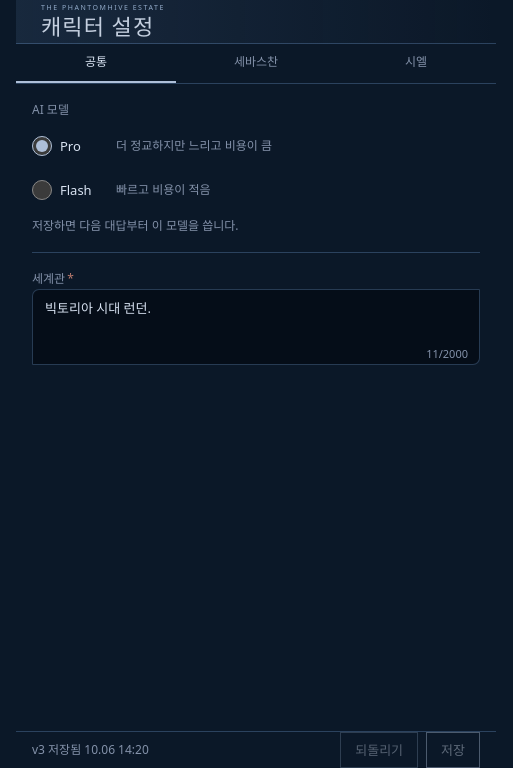
탭 · 필드 (R-SET-009 · R-SET-002) › TC-ST-020: 되돌리기 → 값 = 기준값, dirty 해제, 확인 시트 없음
Expected: the element named "설정 묶음" is shown, [16,44,496,84]
Replace the text in the text box named "세계관, 필수" with "고친 세계" at point(256, 327), box [32,289,480,365]
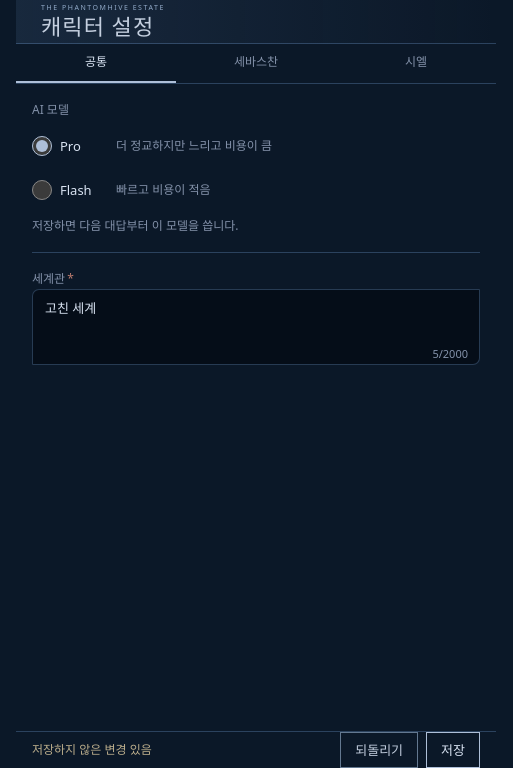
Click the button "되돌리기" at point(379, 750), box [340,732,418,767]
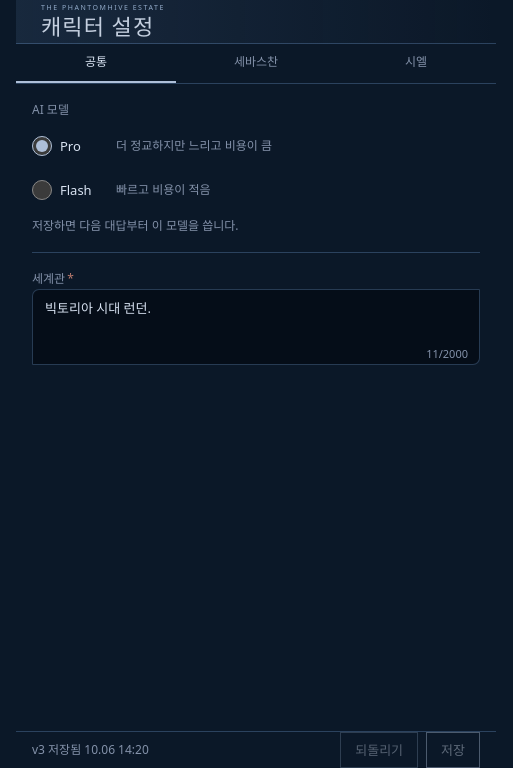
Expected: the text box named "세계관, 필수" holds "빅토리아 시대 런던.", [32,289,480,365]
Expected: the message reads "v3 저장됨 10.06 14:20", [32,741,149,758]
